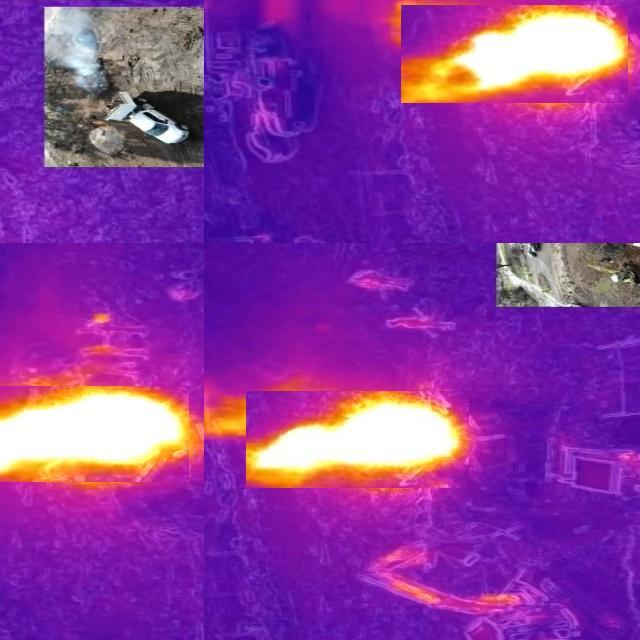fire: (401, 6, 628, 104), (246, 392, 469, 489), (1, 387, 189, 483)
